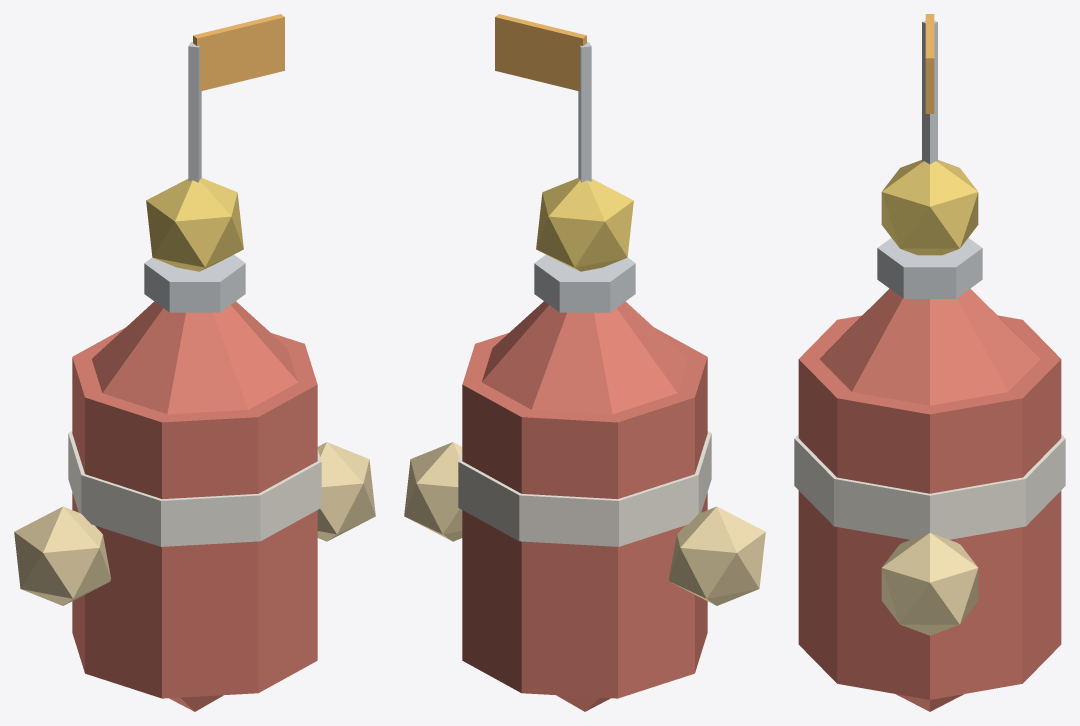
File: buoy.glb
3 renders of one model, left to right at view 1: azimuth 30°, elevation 25°; view 2: azimuth 150°, elevation 25°; view 3: azimuth 270°, elevation 25°, orthographic. The views are drawn at different scales.
Parts seen in each view (by area): view 1: hull, shoulder, band, light, float_0, flag, lantern_base, float_1, antenna; view 2: hull, shoulder, band, light, float_0, flag, lantern_base, float_1, antenna; view 3: hull, shoulder, band, float_1, light, lantern_base, antenna, flag, lower.
Boxes of the visible parts, x1,y1,x2,y2 form: hull: (72, 327, 317, 698); shoulder: (92, 301, 297, 414); band: (68, 431, 321, 546); light: (146, 178, 243, 271); float_0: (14, 506, 110, 605); flag: (193, 14, 284, 91); lantern_base: (144, 254, 245, 312); float_1: (317, 442, 375, 541); antenna: (188, 42, 201, 182); hull: (462, 327, 707, 698); shoulder: (482, 301, 687, 414); band: (458, 431, 711, 546); light: (536, 178, 633, 271); float_0: (669, 506, 765, 605); flag: (495, 14, 586, 91); lantern_base: (534, 254, 635, 312); float_1: (404, 442, 462, 541); antenna: (578, 42, 591, 182); hull: (798, 315, 1061, 699); shoulder: (820, 288, 1039, 405); band: (794, 434, 1065, 539); float_1: (881, 533, 978, 635); light: (881, 160, 978, 255); lantern_base: (877, 238, 982, 298); antenna: (922, 20, 937, 164); flag: (925, 14, 934, 113); lower: (896, 694, 963, 711).
Bounding box in the file's own units: 0.9526 × 1.76 × 0.62.
